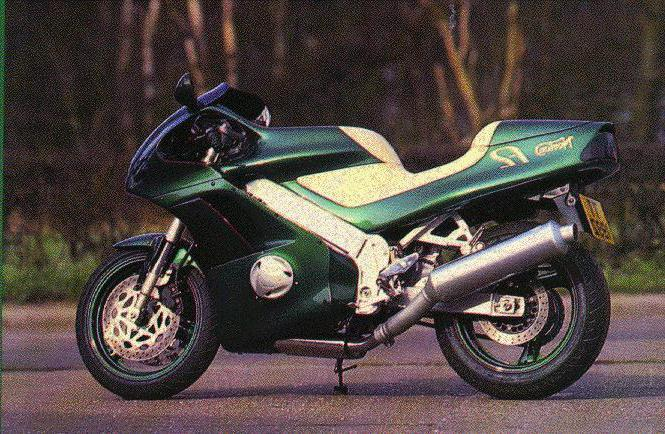motorcycle: (28, 49, 657, 411)
